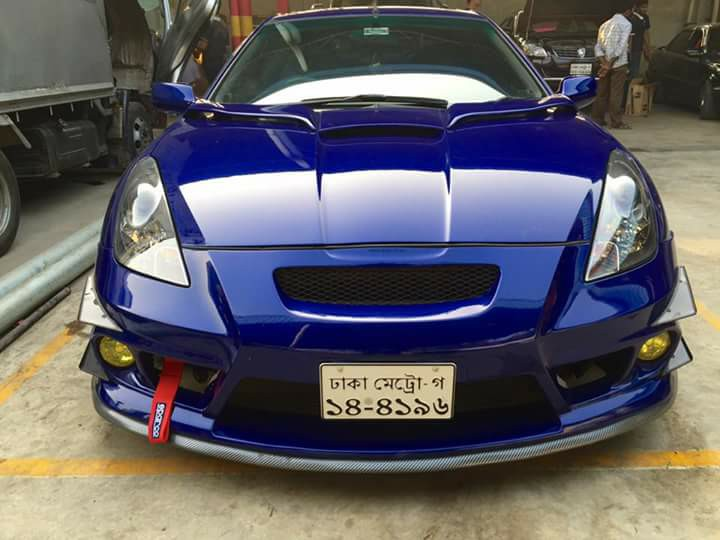registration_plate: (318, 360, 456, 421)
